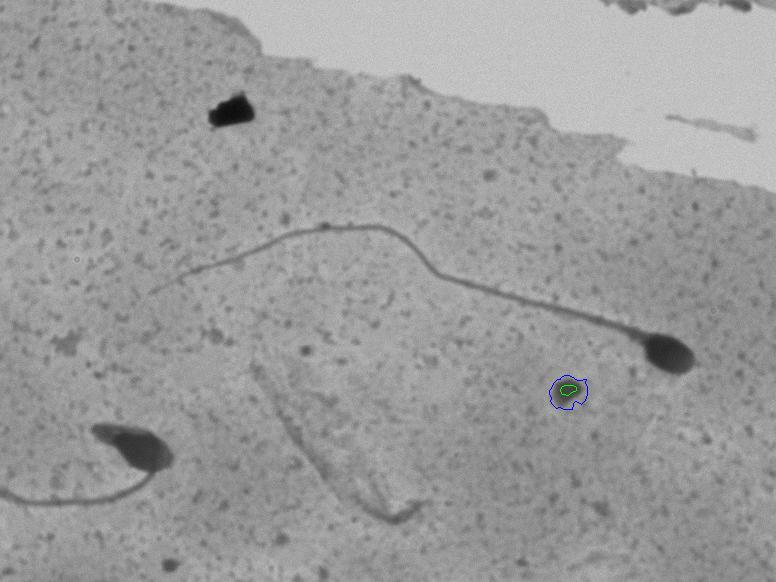Abnormal: (6, 384, 184, 531)
Normal: (117, 182, 720, 391)
